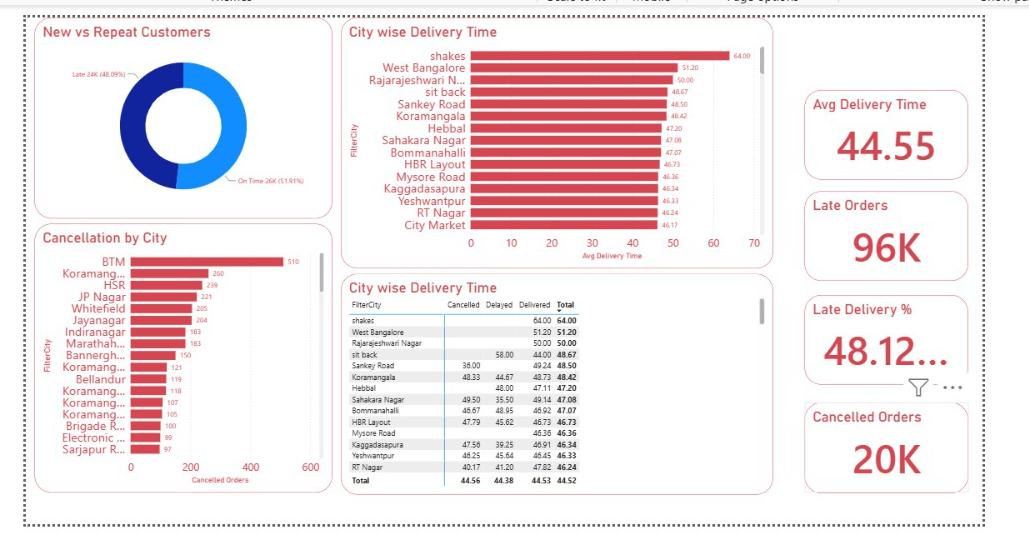

This screenshot's page, from the dashboard's own definition file:
{"tool":"powerbi","page":{"name":"Delivery and Operations","canvas":[1700,900],"ordinal":3},"visuals":[{"type":"cardVisual","title":"Avg Delivery Time","fields":{"Data":["Orders.Avg Delivery Time"]},"box":[1385.2,129.6,290.7,159.3],"z":0},{"type":"cardVisual","title":"Late Orders","fields":{"Data":["Orders.Late Orders"]},"box":[1385.2,309.3,290.7,159.3],"z":1000},{"type":"cardVisual","title":"Late Delivery %","fields":{"Data":["Orders.Late Delivery %"]},"box":[1385.2,492.6,290.7,159.3],"z":2000},{"type":"cardVisual","title":"Cancelled Orders","fields":{"Data":["Orders.Cancelled Orders"]},"box":[1385.2,683.3,290.7,161.1],"z":3000},{"type":"barChart","title":"City wise Delivery Time","fields":{"Y":["Orders.Avg Delivery Time"],"Category":["Customers.FilterCity"]},"box":[559.3,0,768.5,446.3],"z":4000},{"type":"donutChart","title":"New vs Repeat Customers","fields":{"Category":["Orders.Delivery Status"],"Y":["Orders.Total Orders"]},"box":[14.8,0,529.6,357.4],"z":5000},{"type":"clusteredBarChart","title":"Cancellation by City","fields":{"Category":["Customers.FilterCity"],"Y":["Orders.Cancelled Orders"]},"box":[14.8,366.7,529.6,477.8],"z":6000},{"type":"pivotTable","title":"City wise Delivery Time","fields":{"Rows":["Customers.FilterCity"],"Values":["Orders.Avg Delivery Time"],"Columns":["Orders.OrderStatus"]},"box":[559.3,455.6,768.5,392.6],"z":7000}]}

Visuals, with their boxes in screenshot pixels (x1, y1, x2, y2), scaled from the page's 1700x900 canvas onto the 1029x546 screenshot:
"Avg Delivery Time" cardVisual: box(838, 79, 1014, 175)
"Late Orders" cardVisual: box(838, 188, 1014, 284)
"Late Delivery %" cardVisual: box(838, 299, 1014, 395)
"Cancelled Orders" cardVisual: box(838, 415, 1014, 512)
"City wise Delivery Time" barChart: box(339, 0, 804, 271)
"New vs Repeat Customers" donutChart: box(9, 0, 330, 217)
"Cancellation by City" clusteredBarChart: box(9, 222, 330, 512)
"City wise Delivery Time" pivotTable: box(339, 276, 804, 515)
